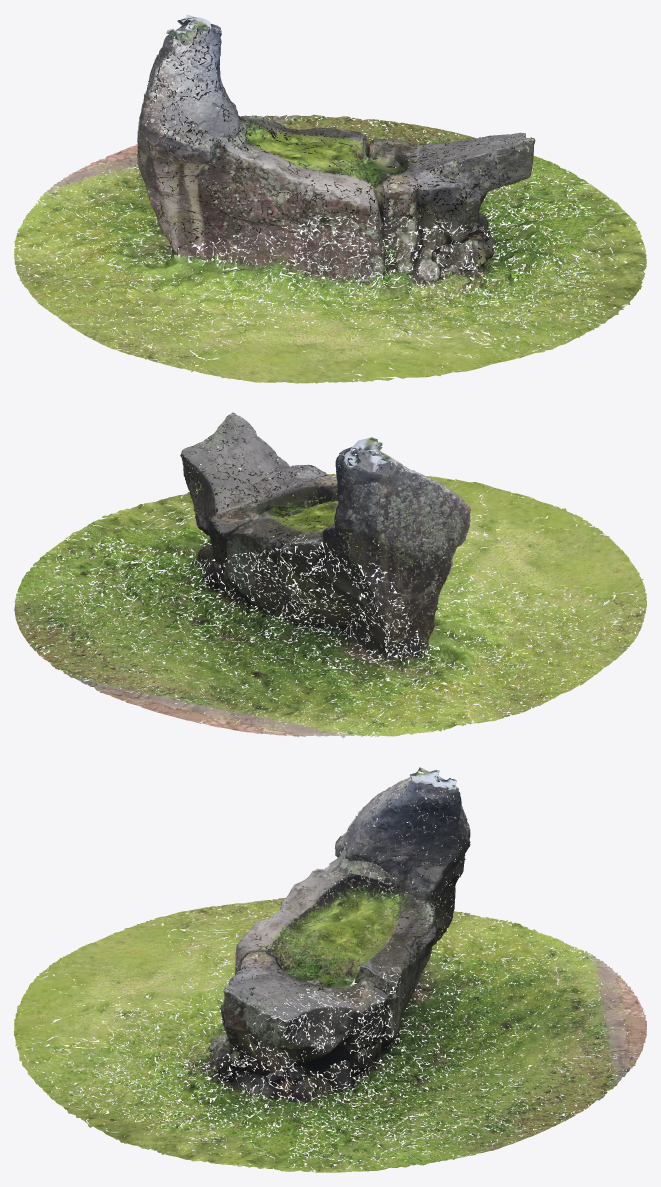
The model's file is boat.glb.
The picture shows the model from 3 angles, top to bottom: view 1: azimuth 30°, elevation 25°; view 2: azimuth 150°, elevation 25°; view 3: azimuth 270°, elevation 25°; orthographic projection.
Parts seen in each view (by area): view 1: Object_13, Object_4, Object_12, Object_11, Object_14, Object_5, Object_3, Object_6, Object_15, Object_2, Object_8, Object_10 (+4 smaller); view 2: Object_14, Object_6, Object_5, Object_7, Object_15, Object_2, Object_11, Object_4, Object_10, Object_3, Object_13, Object_9 (+4 smaller); view 3: Object_11, Object_10, Object_3, Object_7, Object_5, Object_4, Object_2, Object_12, Object_15, Object_13, Object_6, Object_14 (+4 smaller).
Part boxes in pixels (bbox=[...]): Object_13: bbox=[137, 14, 327, 252]; Object_4: bbox=[154, 136, 520, 382]; Object_12: bbox=[248, 121, 626, 329]; Object_11: bbox=[335, 116, 646, 312]; Object_14: bbox=[14, 17, 297, 292]; Object_5: bbox=[92, 21, 402, 372]; Object_3: bbox=[328, 157, 600, 357]; Object_6: bbox=[16, 115, 376, 325]; Object_15: bbox=[14, 114, 630, 307]; Object_2: bbox=[330, 134, 570, 259]; Object_8: bbox=[25, 24, 600, 366]; Object_10: bbox=[367, 132, 625, 270]; Object_14: bbox=[316, 450, 514, 735]; Object_6: bbox=[80, 566, 612, 712]; Object_5: bbox=[235, 455, 646, 647]; Object_7: bbox=[67, 422, 368, 738]; Object_15: bbox=[35, 443, 535, 736]; Object_2: bbox=[55, 412, 355, 638]; Object_11: bbox=[14, 479, 325, 667]; Object_4: bbox=[275, 479, 605, 634]; Object_10: bbox=[48, 415, 291, 606]; Object_3: bbox=[90, 465, 455, 652]; Object_13: bbox=[262, 437, 470, 660]; Object_9: bbox=[379, 487, 645, 600]; Object_11: bbox=[87, 1062, 600, 1171]; Object_10: bbox=[190, 984, 393, 1172]; Object_3: bbox=[16, 951, 521, 1140]; Object_7: bbox=[229, 954, 646, 1149]; Object_5: bbox=[149, 788, 469, 1036]; Object_4: bbox=[14, 921, 380, 1088]; Object_2: bbox=[219, 945, 450, 1149]; Object_12: bbox=[55, 899, 434, 1123]; Object_15: bbox=[184, 911, 621, 1170]; Object_13: bbox=[268, 767, 470, 1009]; Object_6: bbox=[286, 896, 638, 1099]; Object_14: bbox=[296, 771, 590, 1000].
Size of the model in its own units: 3.51 by 1.4 by 3.52.
2 materials, 2 textured.
